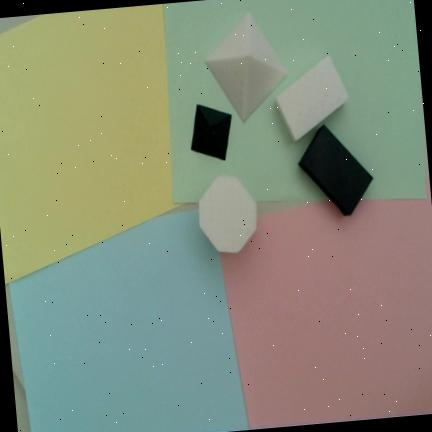Paralelepipedo: (298, 124, 374, 216), (274, 53, 351, 143)
Piramide: (204, 10, 289, 124), (191, 104, 232, 161)
Prisma_hexagonal: (198, 175, 257, 253)
